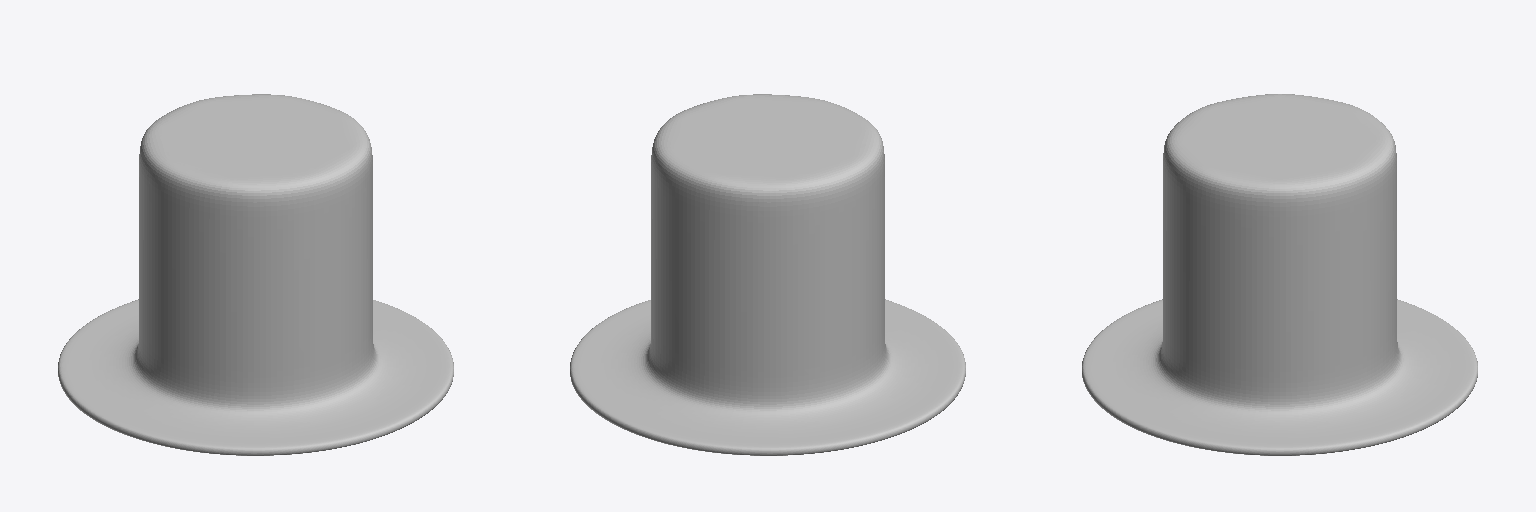
File: topHat.obj
The picture shows the model from 3 angles: view 1: azimuth 30°, elevation 25°; view 2: azimuth 150°, elevation 25°; view 3: azimuth 270°, elevation 25°; orthographic projection.
Parts seen in each view (by area): view 1: Cylinder; view 2: Cylinder; view 3: Cylinder.
Boxes of the visible parts, x1=… form: Cylinder: x1=58, y1=94, x2=453, y2=455; Cylinder: x1=570, y1=94, x2=965, y2=455; Cylinder: x1=1082, y1=94, x2=1477, y2=455.
Size of the model in its own units: 3.06 by 2 by 3.06.